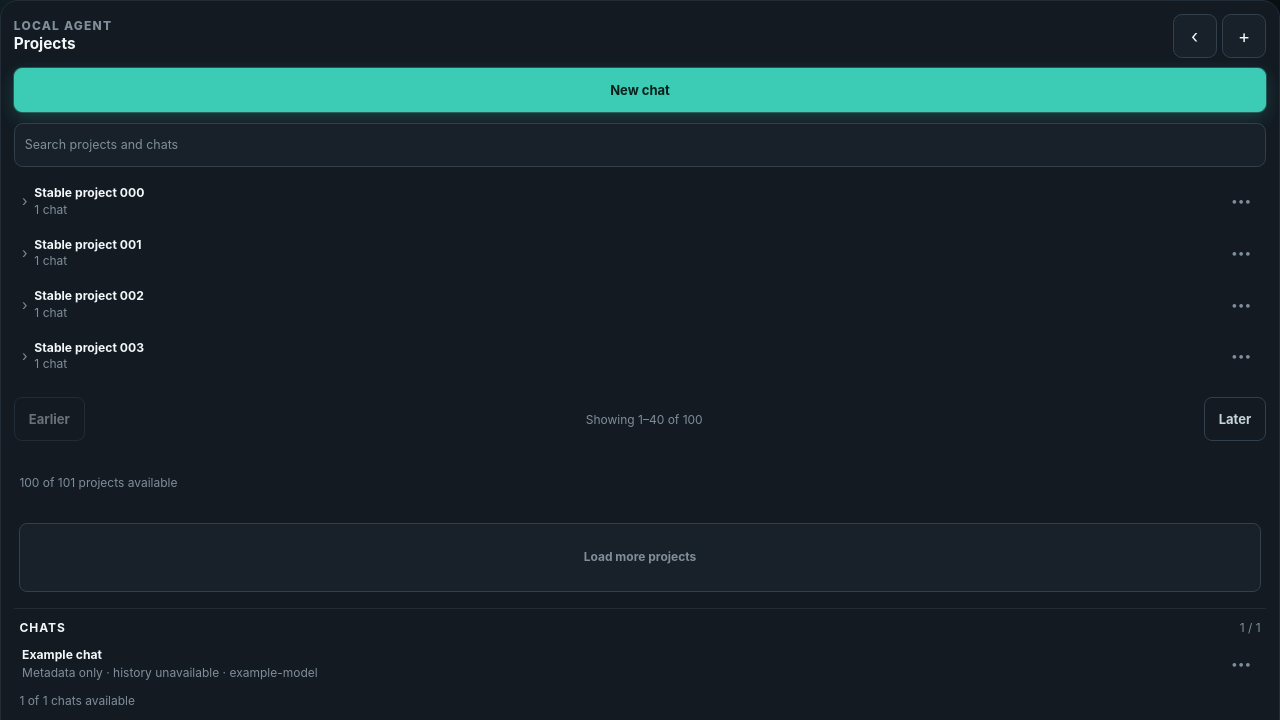
Test: AgentCatalogRail › refuses a repeated continuation and preserves the already loaded project prefix
Expected: the text "100 of 101 projects available" is shown, [19,475,178,490]
Click the button "Load more projects".
click(640, 558)  # box [19,523,1261,592]
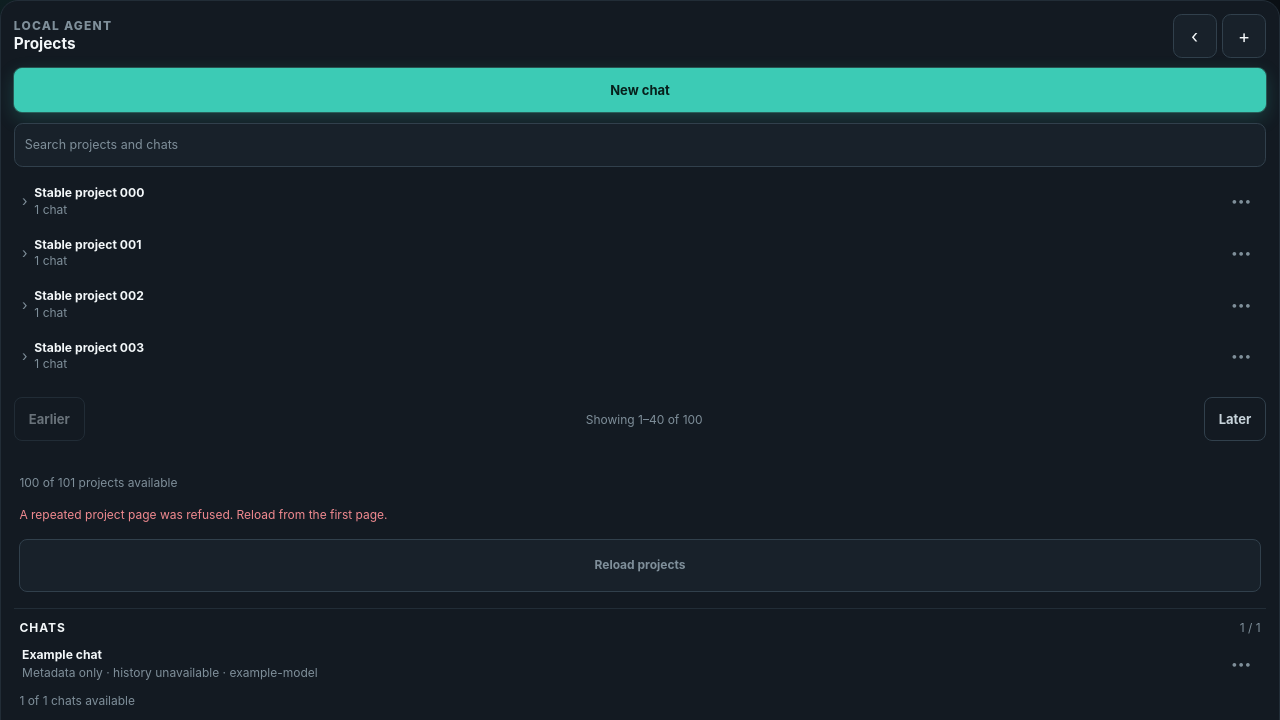
Expected: the text "100 of 101 projects available" is shown, [19,475,178,490]
Expected: the message shows "A repeated project page was refused", [19,507,388,522]
Expected: the button "Reload projects" is shown, [19,539,1261,592]
